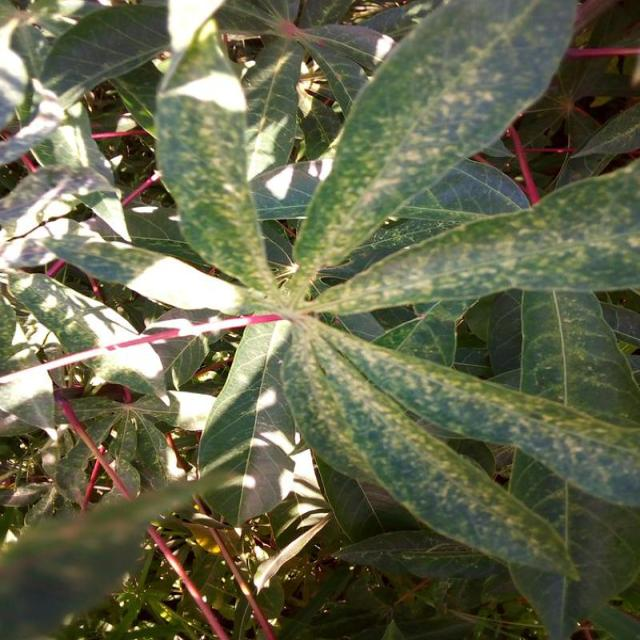cassava leaf: (1, 1, 638, 637), (289, 0, 577, 292), (152, 15, 272, 292)
